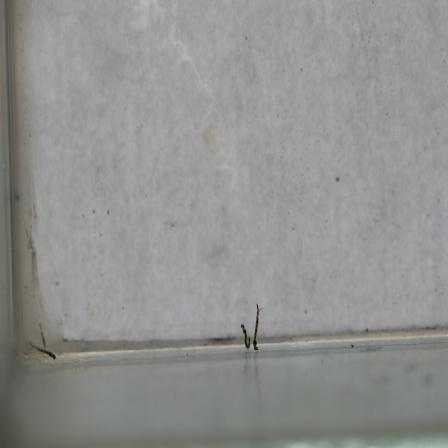Jentik-Nyamuk: (239, 302, 262, 353), (27, 339, 59, 365)
